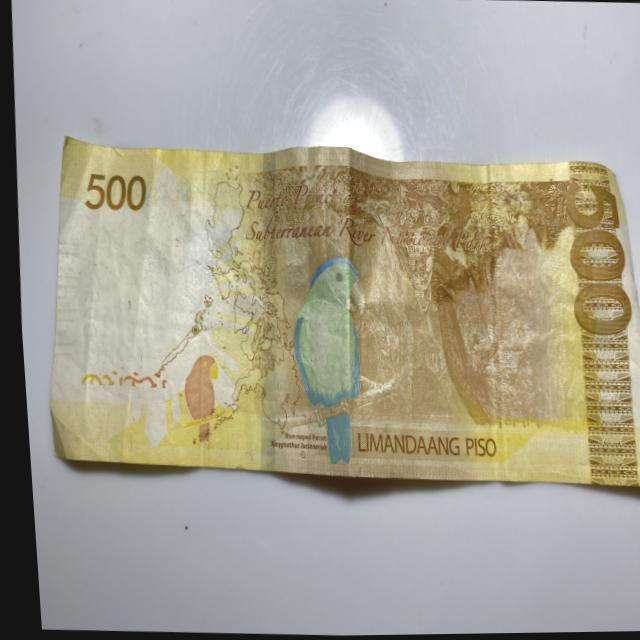500_big_parrot: (277, 255, 379, 465)
500_parrot_watermark: (170, 345, 224, 450)
value_watermark: (70, 283, 101, 335)
